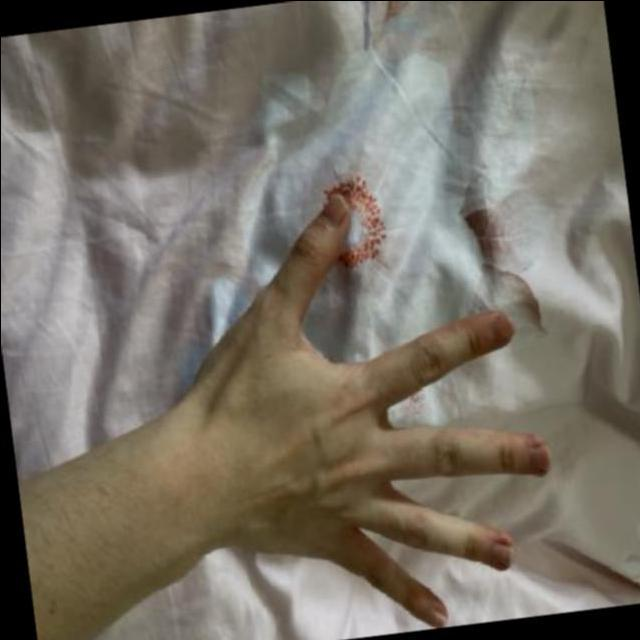hand: (128, 133, 582, 640)
